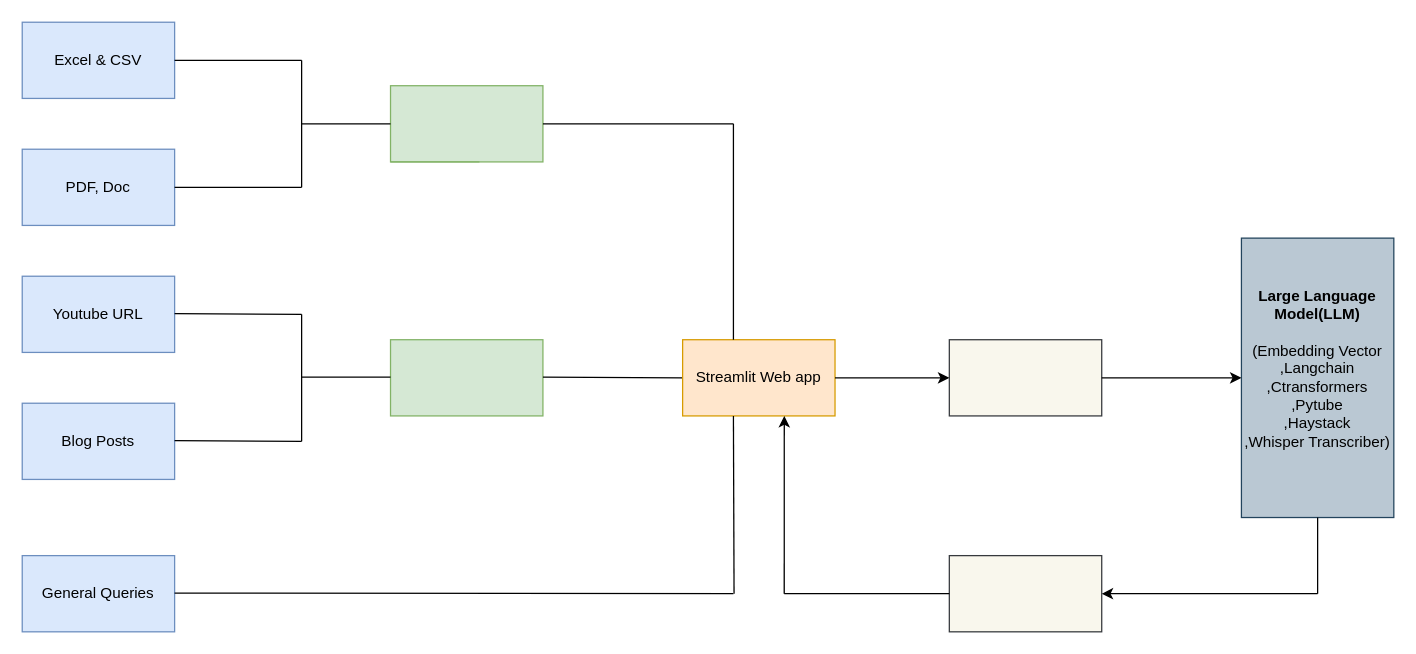
Some shapes in this 1416 by 654 pixel diagram are drawn without their labels. Each missing label, with the box of its shape:
Input Query: (948, 338, 1102, 416)
Output: (948, 554, 1102, 632)
Paste URL interface: (389, 338, 543, 416)
Select & Upload or Drag & Drop interface: (389, 84, 543, 162)
